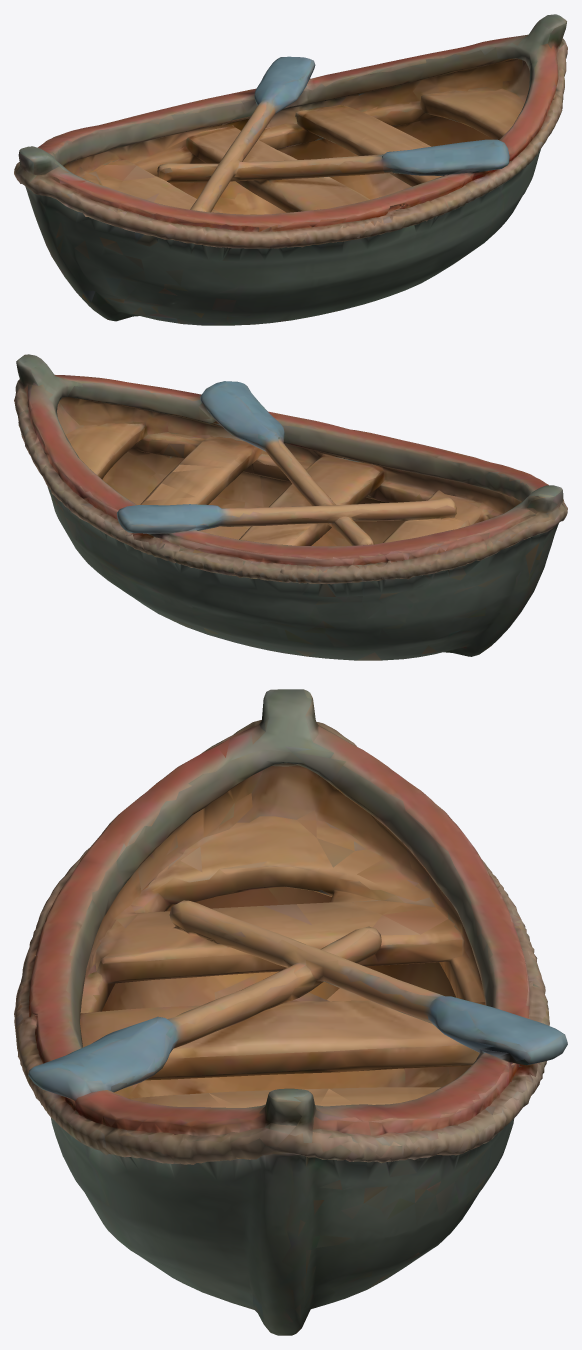
File: sc-shore-skiff.glb
3 views of the same model, one above another, from view 1: azimuth 30°, elevation 25°; view 2: azimuth 150°, elevation 25°; view 3: azimuth 270°, elevation 25° (orthographic). The views are drawn at different scales.
Visible parts, largest first — view 1: geometry_0; view 2: geometry_0; view 3: geometry_0.
Part boxes in pixels (x1,y1,x2,y2): geometry_0: (14,14,567,325); geometry_0: (14,354,567,660); geometry_0: (14,689,567,1335).
Bounding box in the file's own units: 1 × 0.3736 × 0.5571.
1 material, 1 textured.
